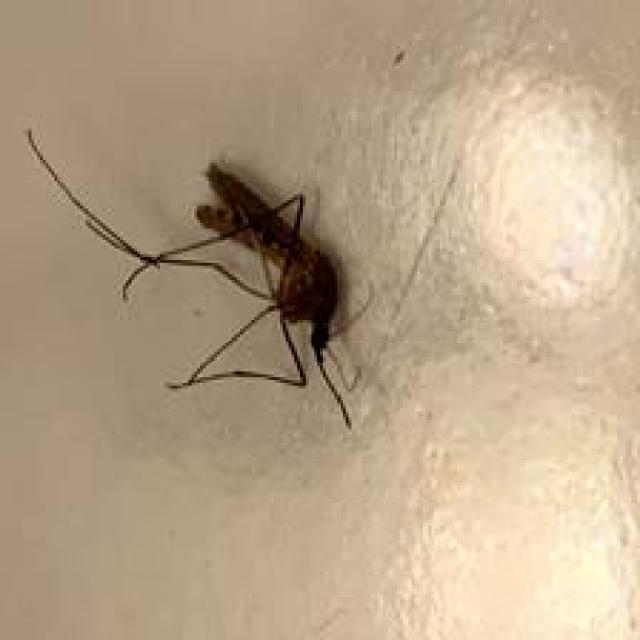Culex: (23, 124, 368, 430)
